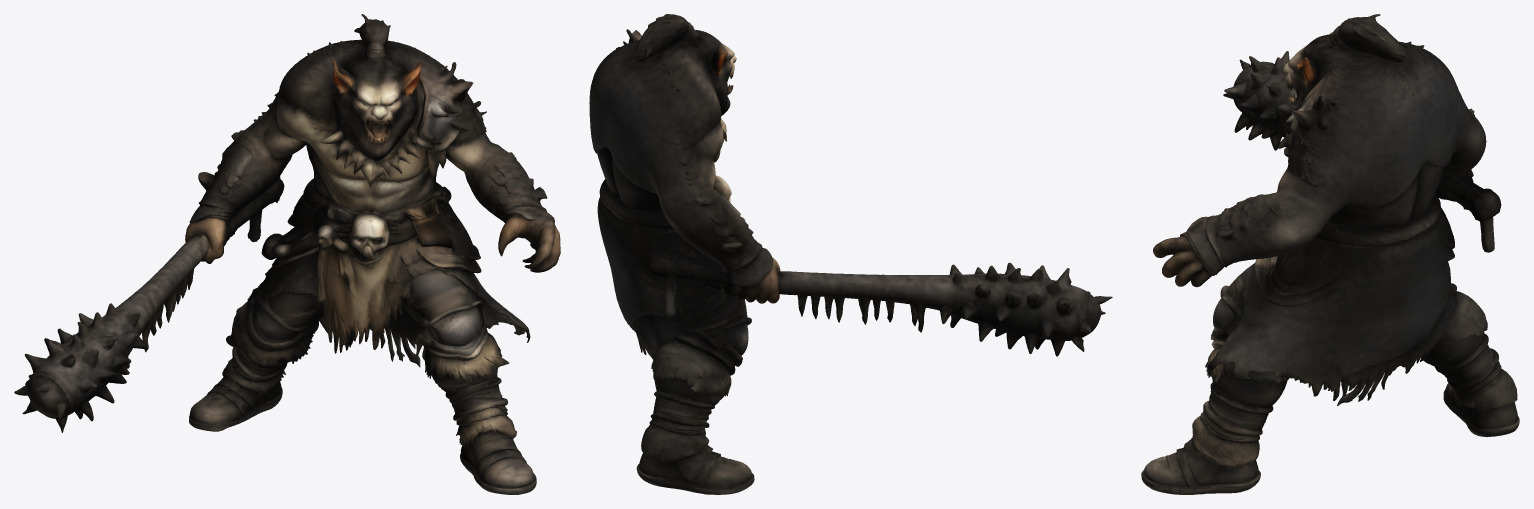
Rendered from bugbear.glb.
3 renders of one model, left to right at view 1: azimuth 30°, elevation 25°; view 2: azimuth 150°, elevation 25°; view 3: azimuth 270°, elevation 25°, orthographic. The views are drawn at different scales.
Parts seen in each view (by area): view 1: material; view 2: material; view 3: material.
Part boxes in pixels (box(x1,y1,x2,y2)): material: box(14, 14, 560, 494); material: box(589, 14, 1112, 494); material: box(1141, 14, 1519, 494).
Size of the model in its own units: 0.9505 by 0.7472 by 0.579.
Materials: 1 (1 with a texture image).
